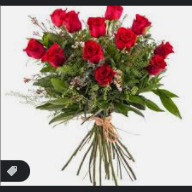RedRose: (113, 24, 135, 55), (82, 40, 110, 64), (23, 36, 48, 62), (91, 63, 114, 87), (45, 44, 67, 67), (87, 13, 106, 36), (48, 8, 69, 28), (66, 12, 84, 35), (148, 56, 164, 80), (134, 14, 152, 34), (154, 41, 175, 58), (105, 4, 124, 20)
